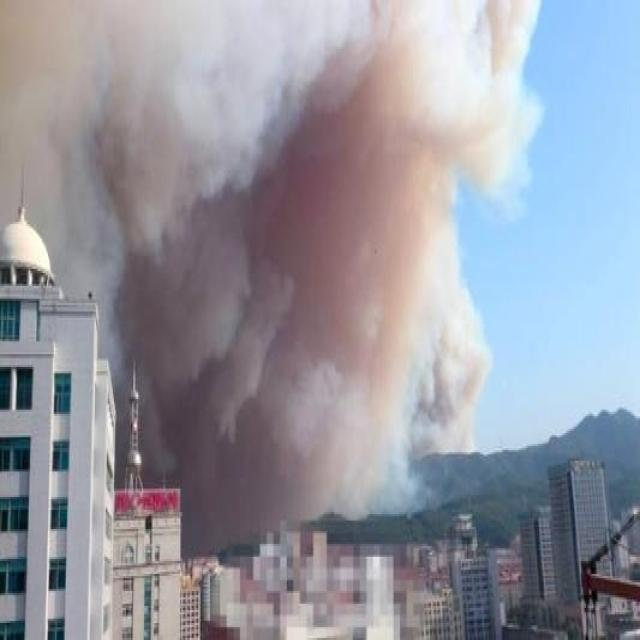Smoke: (0, 0, 548, 583)
